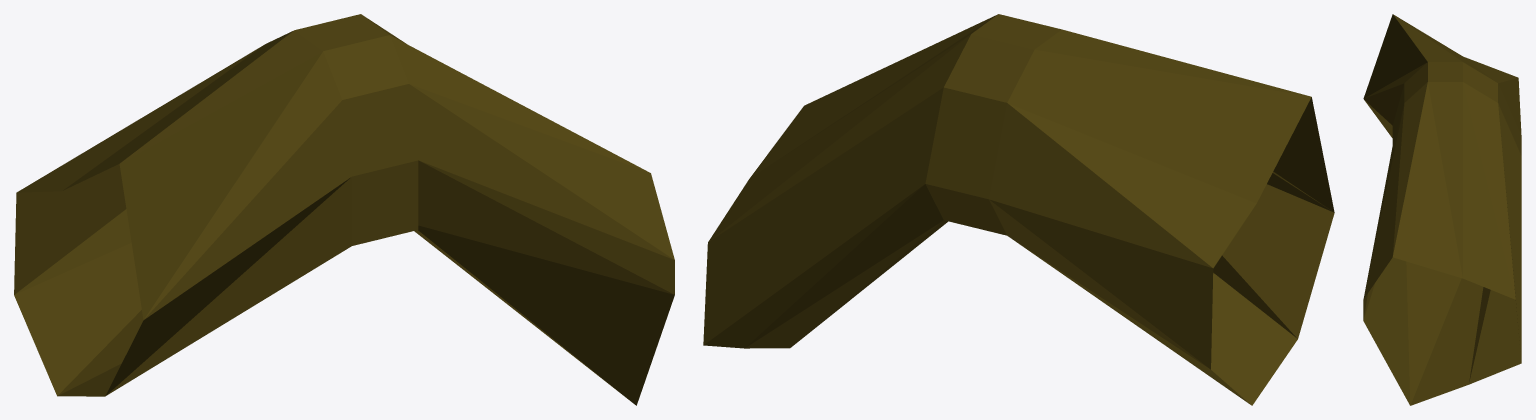
The model's file is obj_rock_11_0.obj.
3 views of the same model, side by side, from view 1: azimuth 30°, elevation 25°; view 2: azimuth 150°, elevation 25°; view 3: azimuth 270°, elevation 25° (orthographic). The views are drawn at different scales.
Size of the model in its own units: 1 by 0.75 by 0.4219.
